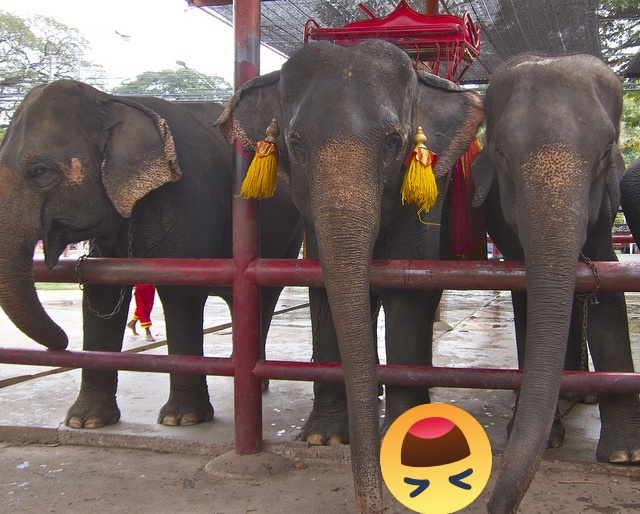haha: (380, 403, 492, 514)
